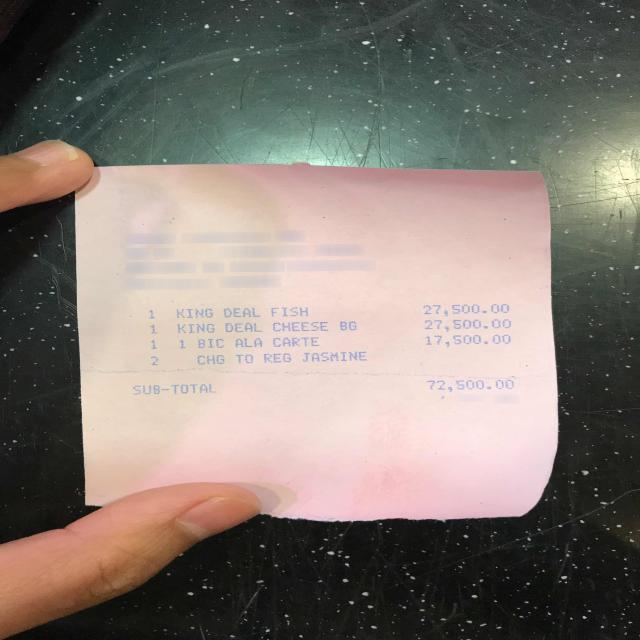kertas: (75, 162, 559, 523)
